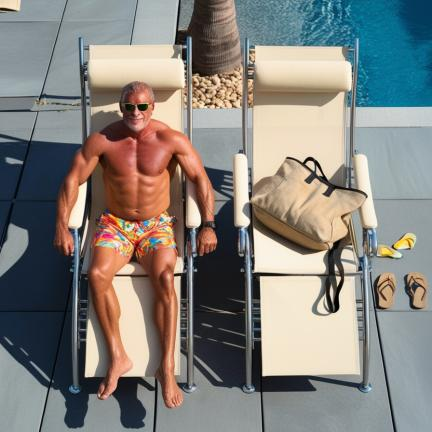guest on chair: (55, 37, 217, 408)
occupied chair: (234, 39, 378, 392)
